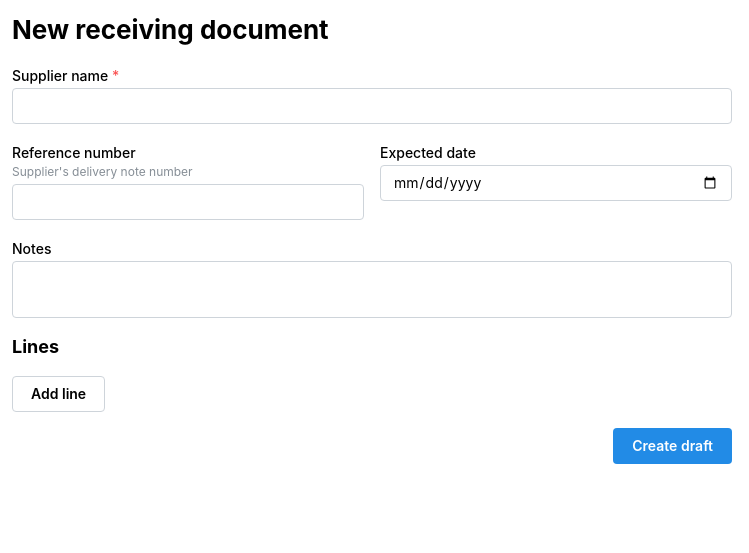
Test: DocumentCreatePage › BR-06 NFR-06 a rejected document shows the server message
Step 1. Type "PT Sumber" into the field labelled "Supplier name *" → x=372, y=106, box [12,88,732,124]
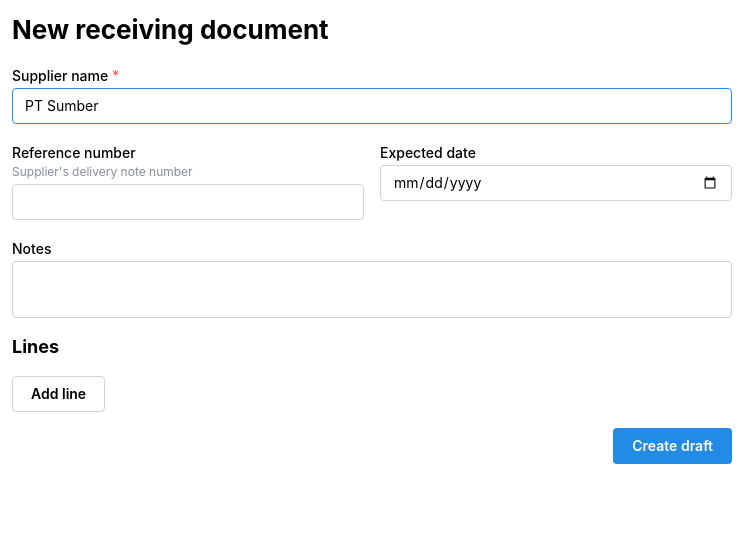
Step 2. Click the button "Create draft" → x=673, y=446, box [613,428,732,464]
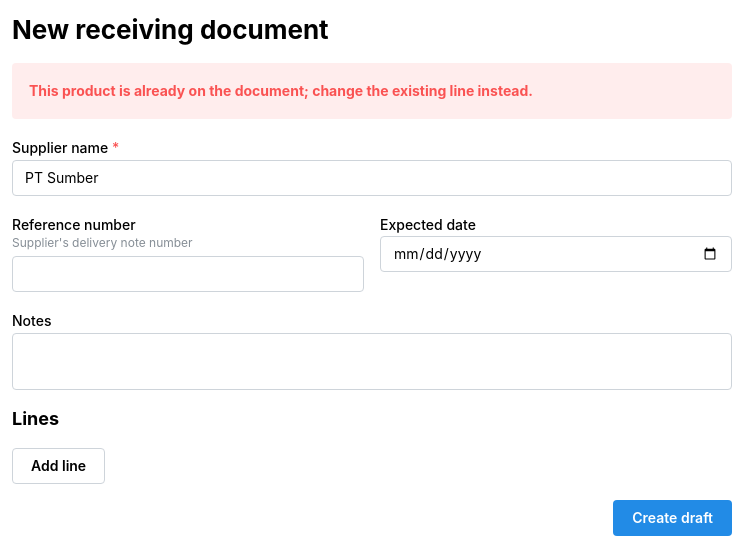
Result: the text "This product is already on the document; change the existing line instead." is shown at [29,80,533,102]
